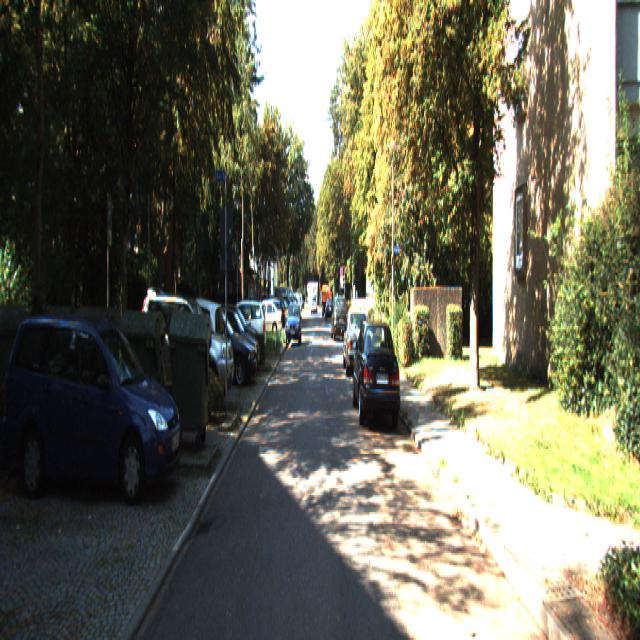Car: (3, 307, 184, 510), (138, 281, 235, 419), (184, 299, 257, 387), (351, 318, 403, 430), (342, 310, 372, 376), (331, 294, 348, 342), (286, 304, 302, 346)
